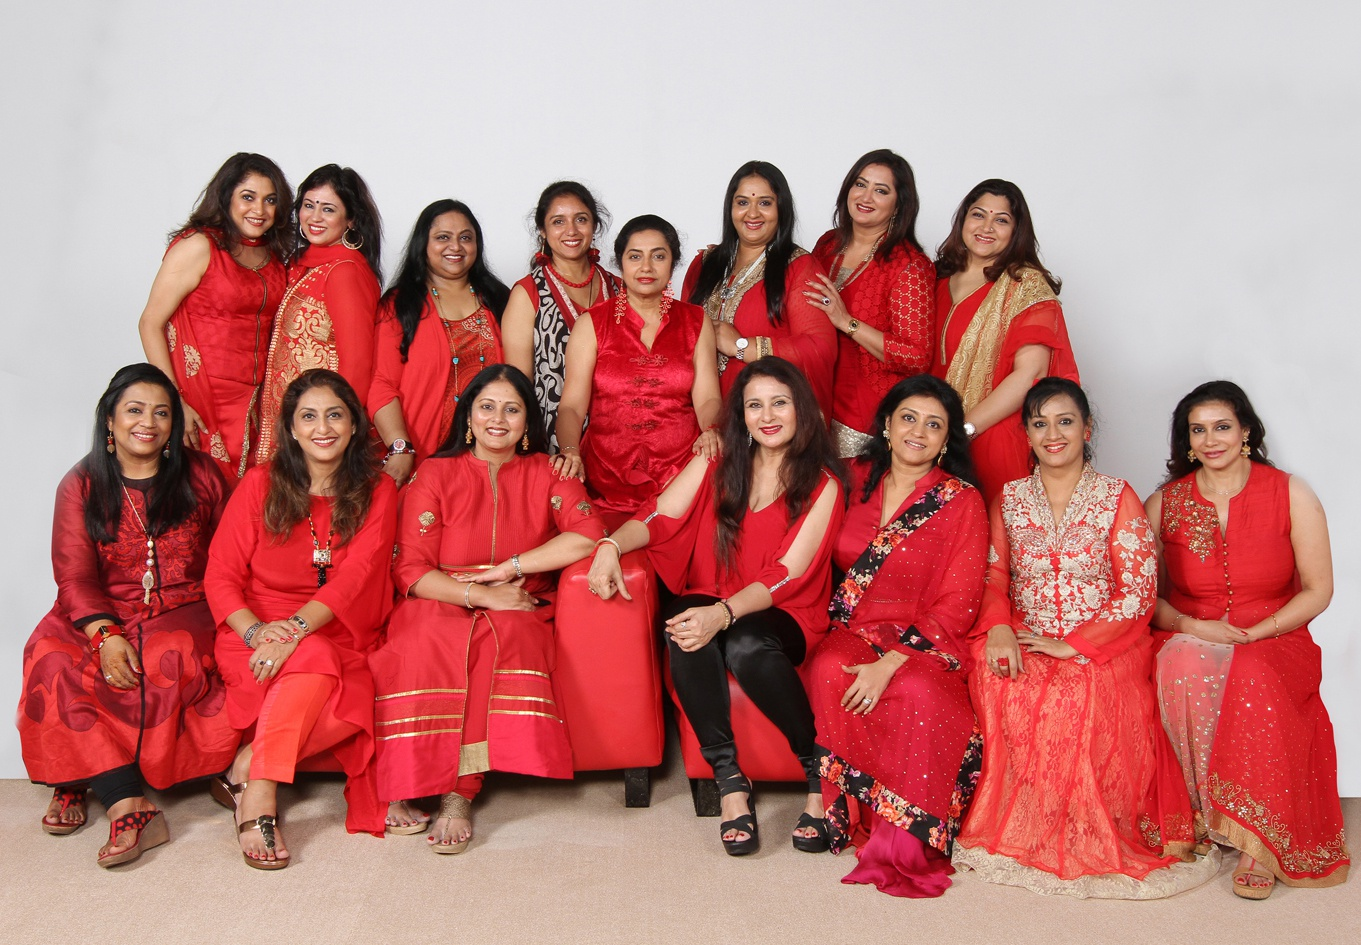bad: (114, 391, 176, 453), (1020, 405, 1082, 467), (1179, 405, 1241, 467), (467, 391, 530, 453), (288, 398, 349, 460), (838, 170, 890, 222), (959, 199, 1011, 251), (740, 389, 792, 441), (544, 205, 596, 257), (233, 182, 285, 234), (619, 239, 671, 291), (429, 222, 481, 274), (890, 406, 942, 458), (291, 188, 343, 239), (728, 188, 780, 239)
